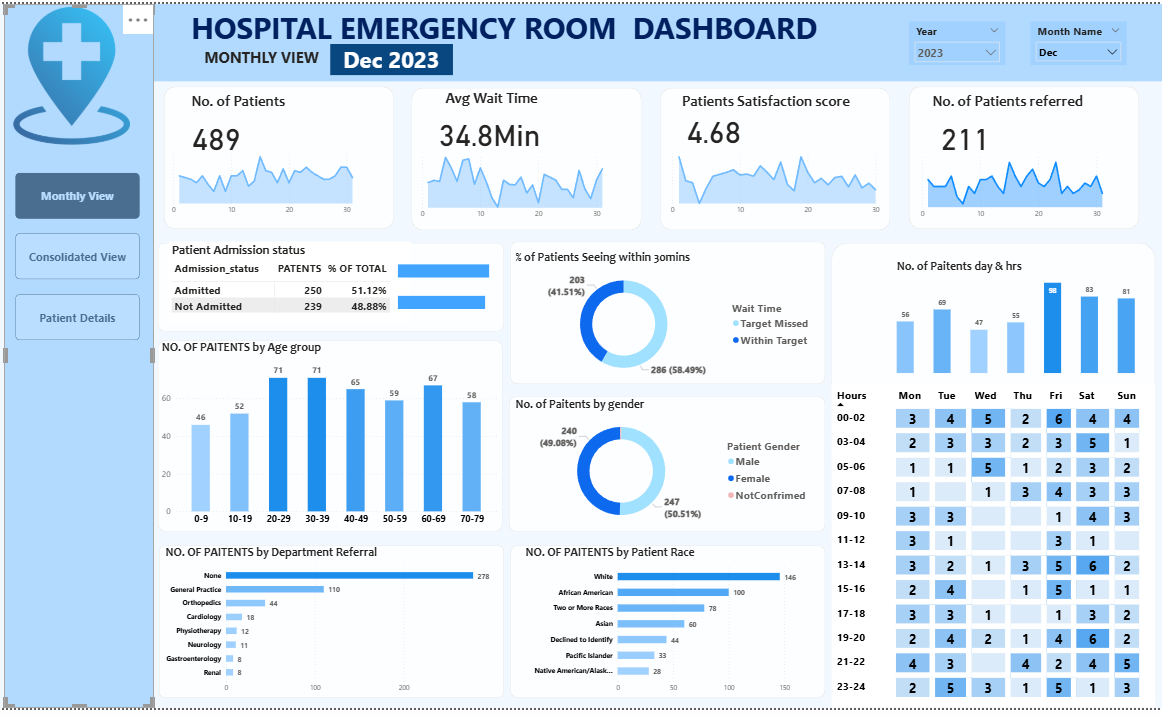

The dashboard page shown, as its layout file describes it:
{"tool":"powerbi","page":{"name":"Monthly View","canvas":[2100,1267],"ordinal":0},"visuals":[{"type":"shape","box":[9,0,269.9,1266.4],"z":0},{"type":"shape","box":[1637.5,148.5,413.9,256.4],"z":1000},{"type":"shape","box":[1189.9,150.7,413.9,256.4],"z":2000},{"type":"shape","box":[742.3,150.7,413.9,256.4],"z":3000},{"type":"shape","box":[278.9,0,1822,139.5],"z":4000},{"type":"textbox","box":[296.9,0,1223.7,139.5],"z":5000},{"type":"shape","box":[296.9,148.5,413.9,256.4],"z":6000},{"type":"card","fields":{"Values":["Hospital ER_Data.NO. OF PATENTS"]},"box":[300.1,184.4,184.4,103.5],"z":7000},{"type":"slicer","fields":{"Values":["Date Table.Year"]},"box":[1637.5,31.5,173.2,78.7],"z":8000},{"type":"slicer","fields":{"Values":["Date Table.Month Name"]},"box":[1855.7,31.5,173.2,78.7],"z":9000},{"type":"textbox","box":[348.7,72,247.4,78.7],"z":10000},{"type":"textbox","box":[300.1,153,263.2,67.5],"z":11000},{"type":"areaChart","fields":{"Y":["Hospital ER_Data.NO. OF PATENTS"],"Category":["Date Table.Date.Variation.Date Hierarchy.Day"]},"box":[299.2,251.9,393.6,137.2],"z":12000},{"type":"card","fields":{"Values":["Min(Date Table.Month & Year)"]},"box":[596.1,72,220.4,56.2],"z":13000},{"type":"card","fields":{"Values":["Hospital ER_Data.Avg wait time"]},"box":[783.7,177.7,200.2,103.5],"z":14000},{"type":"textbox","box":[763.4,148.5,247.4,72],"z":15000},{"type":"areaChart","fields":{"Category":["Date Table.Date.Variation.Date Hierarchy.Day"],"Y":["Avg(Hospital ER_Data.Patient Waittime)"]},"box":[746.8,258.7,395.9,137.2],"z":16000},{"type":"card","fields":{"Values":["Avg(Hospital ER_Data.Patient Satisfaction Score)"]},"box":[1195.3,173.2,184.4,103.5],"z":17000},{"type":"textbox","box":[1199.8,153,362.1,72],"z":18000},{"type":"areaChart","fields":{"Category":["Date Table.Date.Variation.Date Hierarchy.Day"],"Y":["Avg(Hospital ER_Data.Patient Satisfaction Score)"]},"box":[1197.6,251.9,395.9,137.2],"z":19000},{"type":"card","fields":{"Values":["Hospital ER_Data.No of patients referred"]},"box":[1647.1,184.1,184.4,103.5],"z":20000},{"type":"textbox","box":[1618.2,153,395.9,85.5],"z":21000},{"type":"areaChart","fields":{"Category":["Date Table.Date.Variation.Date Hierarchy.Day"],"Y":["Hospital ER_Data.No of patients referred"]},"box":[1647.1,258.3,395.9,137.2],"z":22000},{"type":"shape","box":[285.7,429.6,623.1,159.7],"z":23000},{"type":"pivotTable","title":"Patient Admission status","fields":{"Rows":["Hospital ER_Data.Admission_status"],"Values":["Hospital ER_Data.NO. OF PATENTS1","Hospital ER_Data.NO. OF PATENTS"]},"box":[305.5,427.4,434.1,146.2],"z":24000},{"type":"barChart","fields":{"Category":["Hospital ER_Data.Admission_status"],"Y":["Hospital ER_Data.NO. OF PATENTS"]},"box":[713.1,427.4,206.9,159.7],"z":25000},{"type":"shape","box":[285.7,605.1,620.8,344.2],"z":26000},{"type":"clusteredColumnChart","fields":{"Category":["Hospital ER_Data.Age group"],"Y":["Hospital ER_Data.NO. OF PATENTS"]},"box":[287.9,605.1,614.1,344.2],"z":27000},{"type":"shape","box":[287.9,974,620.8,274.4],"z":28000},{"type":"clusteredBarChart","fields":{"Category":["Hospital ER_Data.Department Referral"],"Y":["Hospital ER_Data.NO. OF PAITENTS"]},"box":[294.7,974,602.8,274.4],"z":29000},{"type":"shape","title":"%age of Patients within 30 mins","box":[920,427.4,566.8,256.4],"z":30000},{"type":"donutChart","title":"% of Patients Seeing within 30mins","fields":{"Category":["Hospital ER_Data.Wait Time"],"Y":["Hospital ER_Data.NO. OF PAITENTS"]},"box":[924.5,443.1,546.6,240.7],"z":31000},{"type":"shape","title":"%age of Patients within 30 mins","box":[917.7,706.3,569.1,242.9],"z":32000},{"type":"shape","title":"%age of Patients within 30 mins","box":[1498.1,429.6,582.6,836.8],"z":33000},{"type":"donutChart","title":"No. of Paitents by gender","fields":{"Y":["Hospital ER_Data.NO. OF PAITENTS"],"Category":["Hospital ER_Data.Patient Gender"]},"box":[924.5,706.3,546.6,242.9],"z":34000},{"type":"shape","box":[920,974,566.8,274.4],"z":35000},{"type":"clusteredBarChart","fields":{"Category":["Hospital ER_Data.Patient Race"],"Y":["Hospital ER_Data.NO. OF PAITENTS"]},"box":[942.5,974,512.9,274.4],"z":36000},{"type":"pivotTable","fields":{"Rows":["Hospital ER_Data.Waittime_interval"],"Columns":["Date Table.Day_name"],"Values":["Hospital ER_Data.No of patients referred"]},"box":[1498.1,683.8,582.6,582.6],"z":37000},{"type":"columnChart","title":"No. of Paitents day & hrs","fields":{"Category":["Date Table.Day_name"],"Y":["Hospital ER_Data.NO. OF PAITENTS"]},"box":[1610.6,458.9,440.9,211.4],"z":38000},{"type":"image","box":[0,0,260.9,258.7],"z":39000},{"type":"pageNavigator","box":[29.2,303.7,224.9,301.4],"z":40000}]}

Visuals, with their boxes on the page's 2100x1267 design canvas (x1, y1, x2, y2). These are canvas units, not pixel positions in the 1162x720 screenshot, which may show the page scaled, cropped or inside an application window:
shape: region(9, 0, 279, 1266)
shape: region(1638, 148, 2051, 405)
shape: region(1190, 151, 1604, 407)
shape: region(742, 151, 1156, 407)
shape: region(279, 0, 2101, 140)
textbox: region(297, 0, 1521, 140)
shape: region(297, 148, 711, 405)
card - Hospital ER_Data.NO. OF PATENTS: region(300, 184, 484, 288)
slicer - Date Table.Year: region(1638, 32, 1811, 110)
slicer - Date Table.Month Name: region(1856, 32, 2029, 110)
textbox: region(349, 72, 596, 151)
textbox: region(300, 153, 563, 220)
areaChart - Hospital ER_Data.NO. OF PATENTS x Date Table.Date.Variation.Date Hierarchy.Day: region(299, 252, 693, 389)
card - Min(Date Table.Month & Year): region(596, 72, 816, 128)
card - Hospital ER_Data.Avg wait time: region(784, 178, 984, 281)
textbox: region(763, 148, 1011, 220)
areaChart - Date Table.Date.Variation.Date Hierarchy.Day x Avg(Hospital ER_Data.Patient Waittime): region(747, 259, 1143, 396)
card - Avg(Hospital ER_Data.Patient Satisfaction Score): region(1195, 173, 1380, 277)
textbox: region(1200, 153, 1562, 225)
areaChart - Date Table.Date.Variation.Date Hierarchy.Day x Avg(Hospital ER_Data.Patient Satisfaction Score): region(1198, 252, 1594, 389)
card - Hospital ER_Data.No of patients referred: region(1647, 184, 1832, 288)
textbox: region(1618, 153, 2014, 238)
areaChart - Date Table.Date.Variation.Date Hierarchy.Day x Hospital ER_Data.No of patients referred: region(1647, 258, 2043, 396)
shape: region(286, 430, 909, 589)
"Patient Admission status" pivotTable: region(306, 427, 740, 574)
barChart - Hospital ER_Data.Admission_status x Hospital ER_Data.NO. OF PATENTS: region(713, 427, 920, 587)
shape: region(286, 605, 906, 949)
clusteredColumnChart - Hospital ER_Data.Age group x Hospital ER_Data.NO. OF PATENTS: region(288, 605, 902, 949)
shape: region(288, 974, 909, 1248)
clusteredBarChart - Hospital ER_Data.Department Referral x Hospital ER_Data.NO. OF PAITENTS: region(295, 974, 898, 1248)
"%age of Patients within 30 mins" shape: region(920, 427, 1487, 684)
"% of Patients Seeing within 30mins" donutChart: region(924, 443, 1471, 684)
"%age of Patients within 30 mins" shape: region(918, 706, 1487, 949)
"%age of Patients within 30 mins" shape: region(1498, 430, 2081, 1266)
"No. of Paitents by gender" donutChart: region(924, 706, 1471, 949)
shape: region(920, 974, 1487, 1248)
clusteredBarChart - Hospital ER_Data.Patient Race x Hospital ER_Data.NO. OF PAITENTS: region(942, 974, 1455, 1248)
pivotTable - Hospital ER_Data.Waittime_interval x Date Table.Day_name: region(1498, 684, 2081, 1266)
"No. of Paitents day & hrs" columnChart: region(1611, 459, 2052, 670)
image: region(0, 0, 261, 259)
pageNavigator: region(29, 304, 254, 605)
